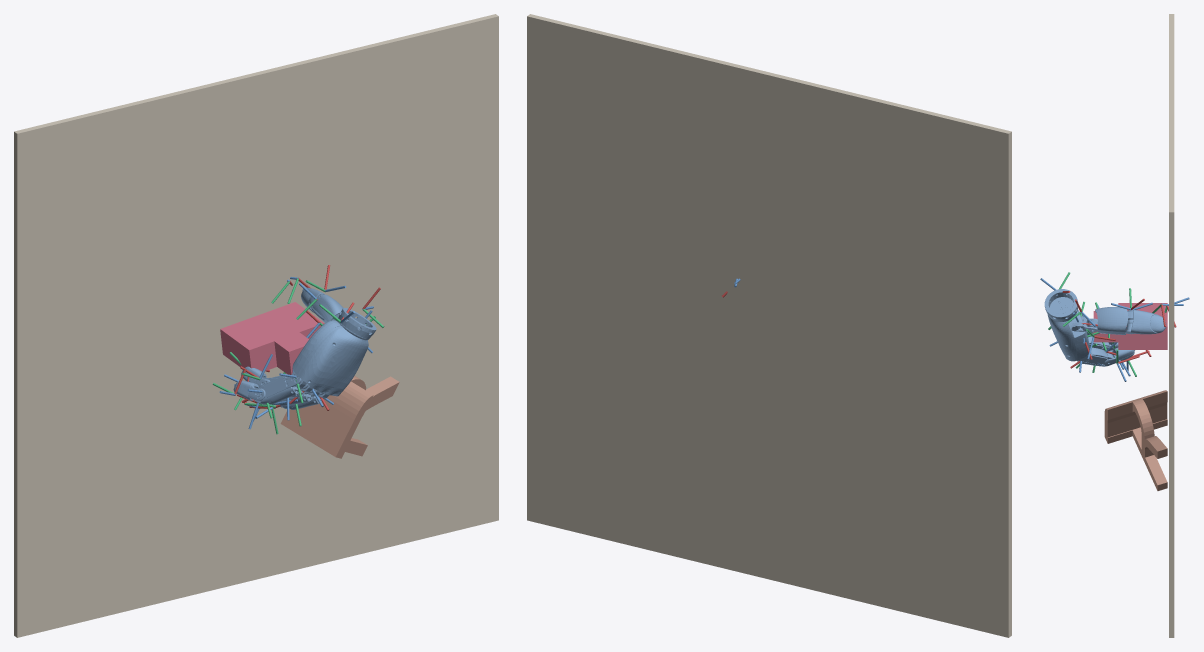
3 renders of one model, left to right at view 1: azimuth 30°, elevation 25°; view 2: azimuth 150°, elevation 25°; view 3: azimuth 270°, elevation 25°, orthographic. The views are drawn at different scales.
Parts seen in each view (by area): view 1: environment, hand, target_object, local_object_000; view 2: environment; view 3: hand, environment, local_object_000, target_object.
Part boxes in pixels (x1=…): environment: x1=14, y1=14, x2=498, y2=637; hand: x1=233, y1=287, x2=376, y2=409; target_object: x1=220, y1=302, x2=324, y2=374; local_object_000: x1=280, y1=376, x2=399, y2=458; environment: x1=527, y1=14, x2=1011, y2=637; hand: x1=1044, y1=289, x2=1166, y2=366; environment: x1=1169, y1=14, x2=1174, y2=637; local_object_000: x1=1104, y1=390, x2=1167, y2=490; target_object: x1=1093, y1=303, x2=1167, y2=349.
Size of the model in its own units: 0.7 by 0.7 by 0.2224.
